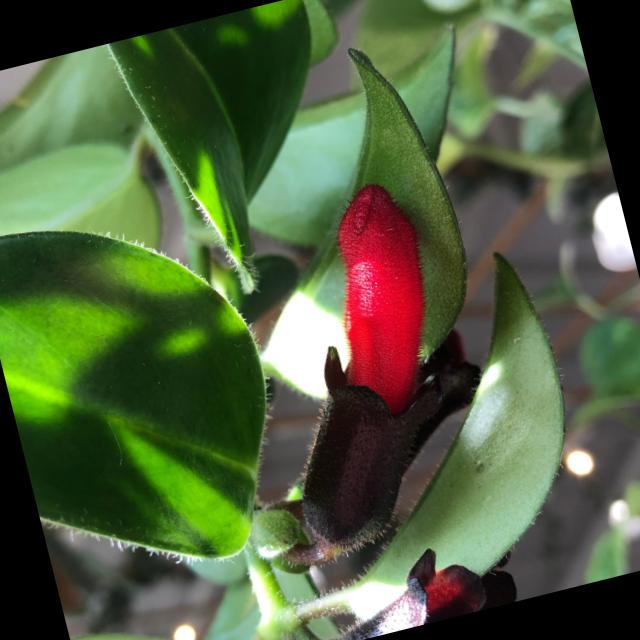Lipstick-Plant: (183, 138, 640, 640)
